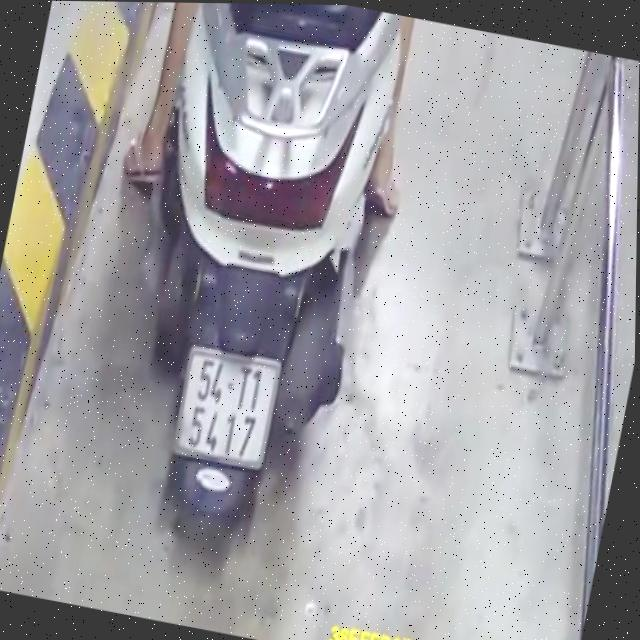motorcycle: (82, 1, 421, 573)
plate: (167, 343, 289, 477)
